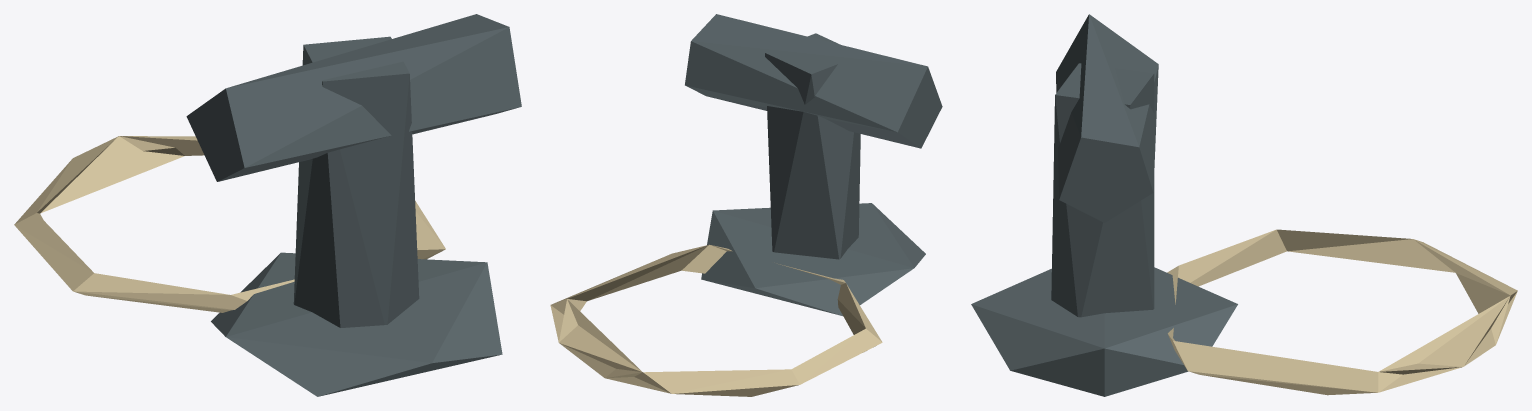
Rendered from harbor.mooring.lod1.glb.
The picture shows the model from 3 angles, left to right: view 1: azimuth 30°, elevation 25°; view 2: azimuth 150°, elevation 25°; view 3: azimuth 270°, elevation 25°; orthographic projection. The views are drawn at different scales.
Visible parts, largest first — view 1: Crossbar, Stem, Base, Ring; view 2: Crossbar, Stem, Base, Ring; view 3: Ring, Base, Crossbar, Stem.
Part boxes in pixels (x1,y1,x2,y2): Crossbar: (186,14,521,181); Stem: (293,36,419,327); Base: (211,252,502,396); Ring: (14,136,445,312); Crossbar: (685,14,942,148); Stem: (765,33,860,259); Base: (701,203,925,315); Ring: (550,244,882,396); Ring: (1167,229,1517,395); Base: (971,267,1237,396); Crossbar: (1056,14,1158,222); Stem: (1051,63,1154,317).
Bounding box in the file's own units: 0.8556 × 0.6596 × 1.23.
